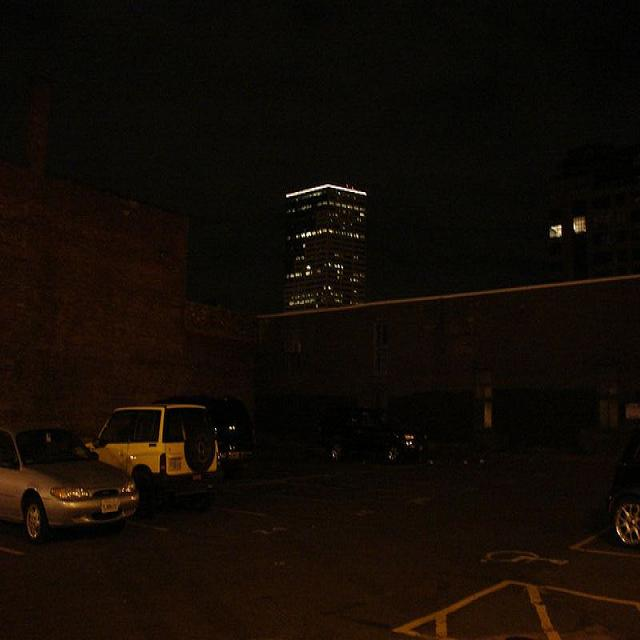Car: (2, 426, 138, 543), (95, 405, 224, 507)
